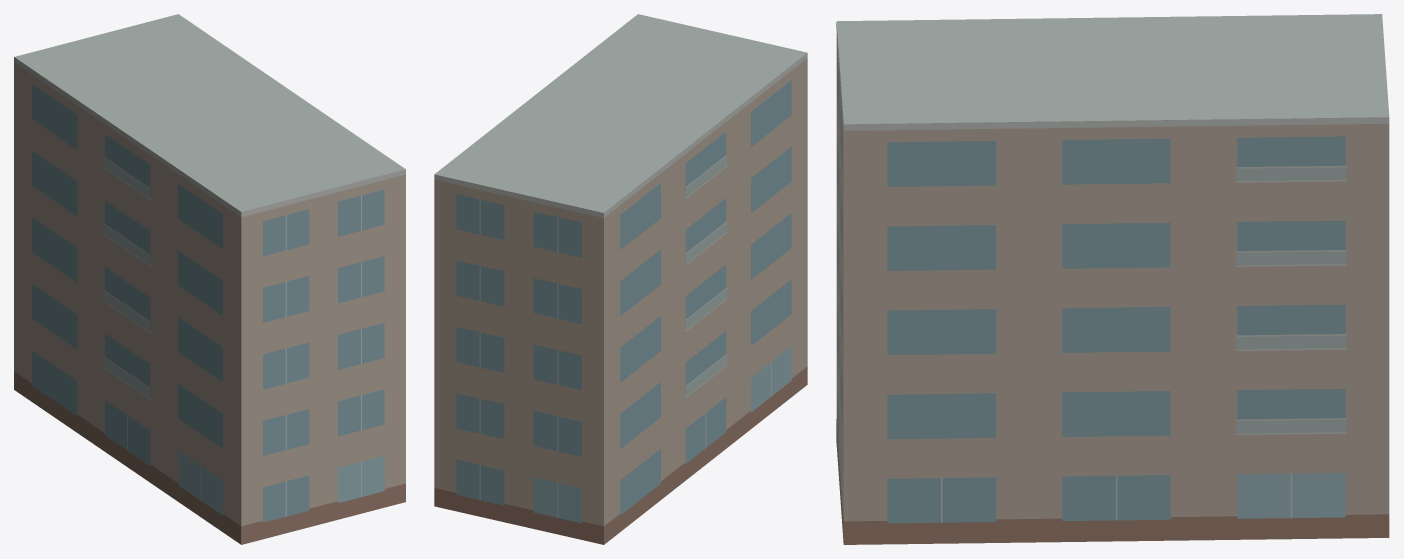
Rendered from survey-upis-32901829.glb.
3 renders of one model, left to right at view 1: azimuth 30°, elevation 25°; view 2: azimuth 150°, elevation 25°; view 3: azimuth 270°, elevation 25°, orthographic. The views are drawn at different scales.
Parts seen in each view (by area): view 1: survey-upis-32901829.tmp; view 2: survey-upis-32901829.tmp; view 3: survey-upis-32901829.tmp.
Boxes of the visible parts, <box> form: survey-upis-32901829.tmp: <box>14,14,405,544</box>; survey-upis-32901829.tmp: <box>434,14,807,544</box>; survey-upis-32901829.tmp: <box>836,14,1389,544</box>.
Bounding box in the file's own units: 8.81 × 15.65 × 18.65.
